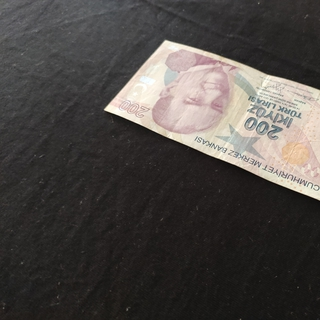200TLFront: (103, 38, 320, 222)
